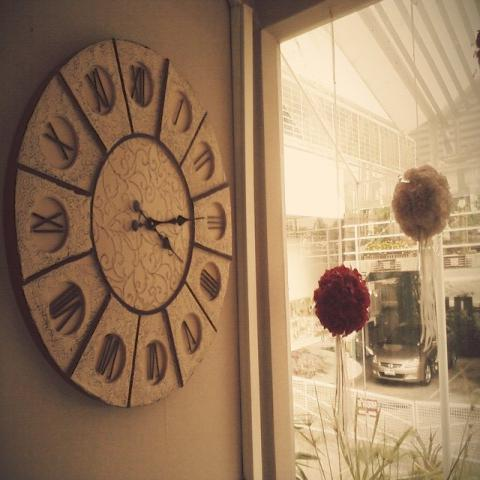car: (373, 321, 460, 383)
